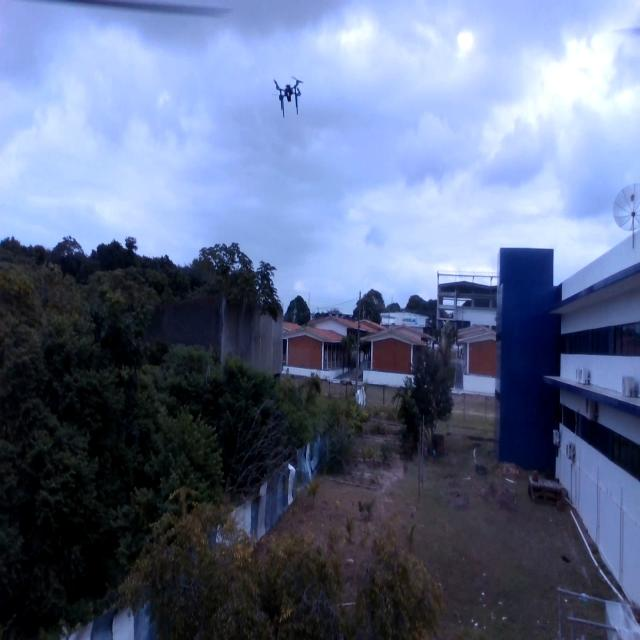-uav-: (267, 68, 310, 119)
